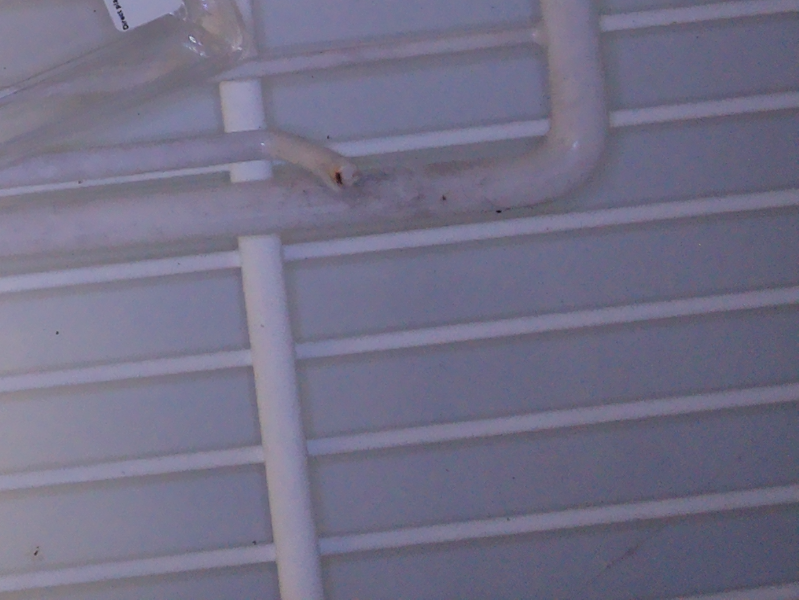plate: (1, 1, 251, 165)
